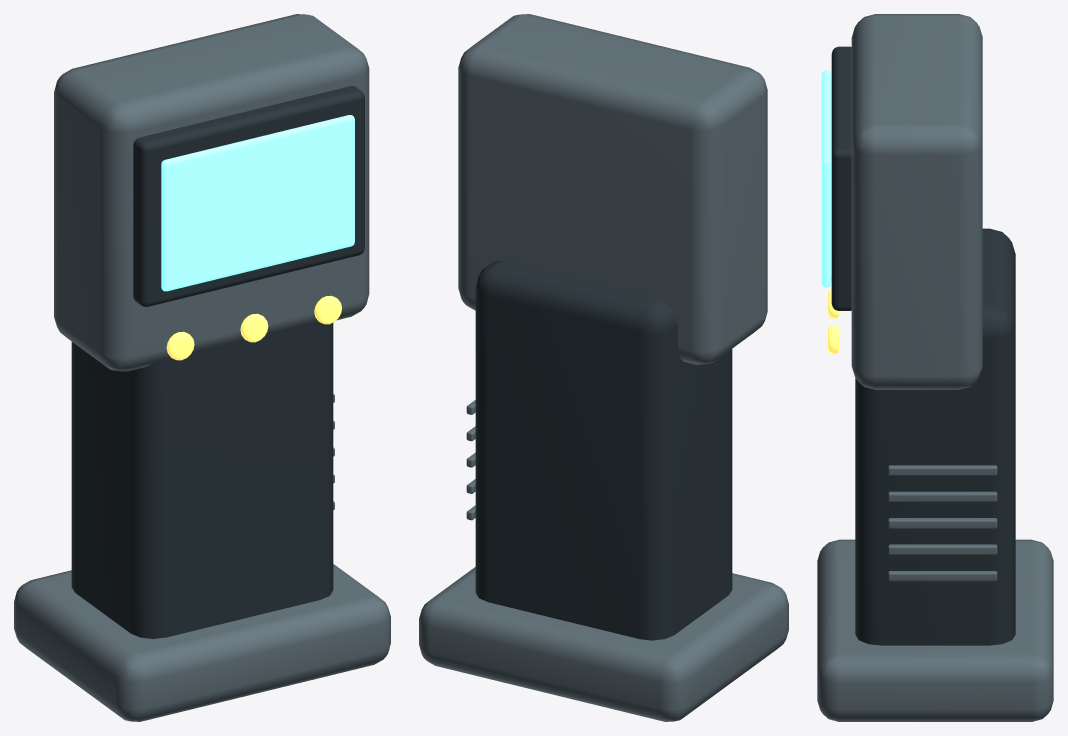
The model's file is terminal.glb.
3 views of the same model, side by side, from view 1: azimuth 30°, elevation 25°; view 2: azimuth 150°, elevation 25°; view 3: azimuth 270°, elevation 25° (orthographic).
Parts seen in each view (by area): view 1: terminal_dark, terminal_metal, terminal_cyan, terminal_amber; view 2: terminal_metal, terminal_dark; view 3: terminal_metal, terminal_dark, terminal_cyan, terminal_amber.
Boxes of the visible parts, left/top/right/bottom form: terminal_dark: left=71, top=86, right=364, bottom=638; terminal_metal: left=14, top=14, right=390, bottom=721; terminal_cyan: left=161, top=115, right=354, bottom=291; terminal_amber: left=166, top=295, right=341, bottom=360; terminal_metal: left=419, top=14, right=788, bottom=721; terminal_dark: left=475, top=261, right=732, bottom=640; terminal_metal: left=817, top=14, right=1053, bottom=721; terminal_dark: left=831, top=46, right=1015, bottom=645; terminal_cyan: left=821, top=70, right=830, bottom=287; terminal_amber: left=828, top=254, right=838, bottom=354.
Bounding box in the file's own units: 0.85 × 1.8 × 0.65.
